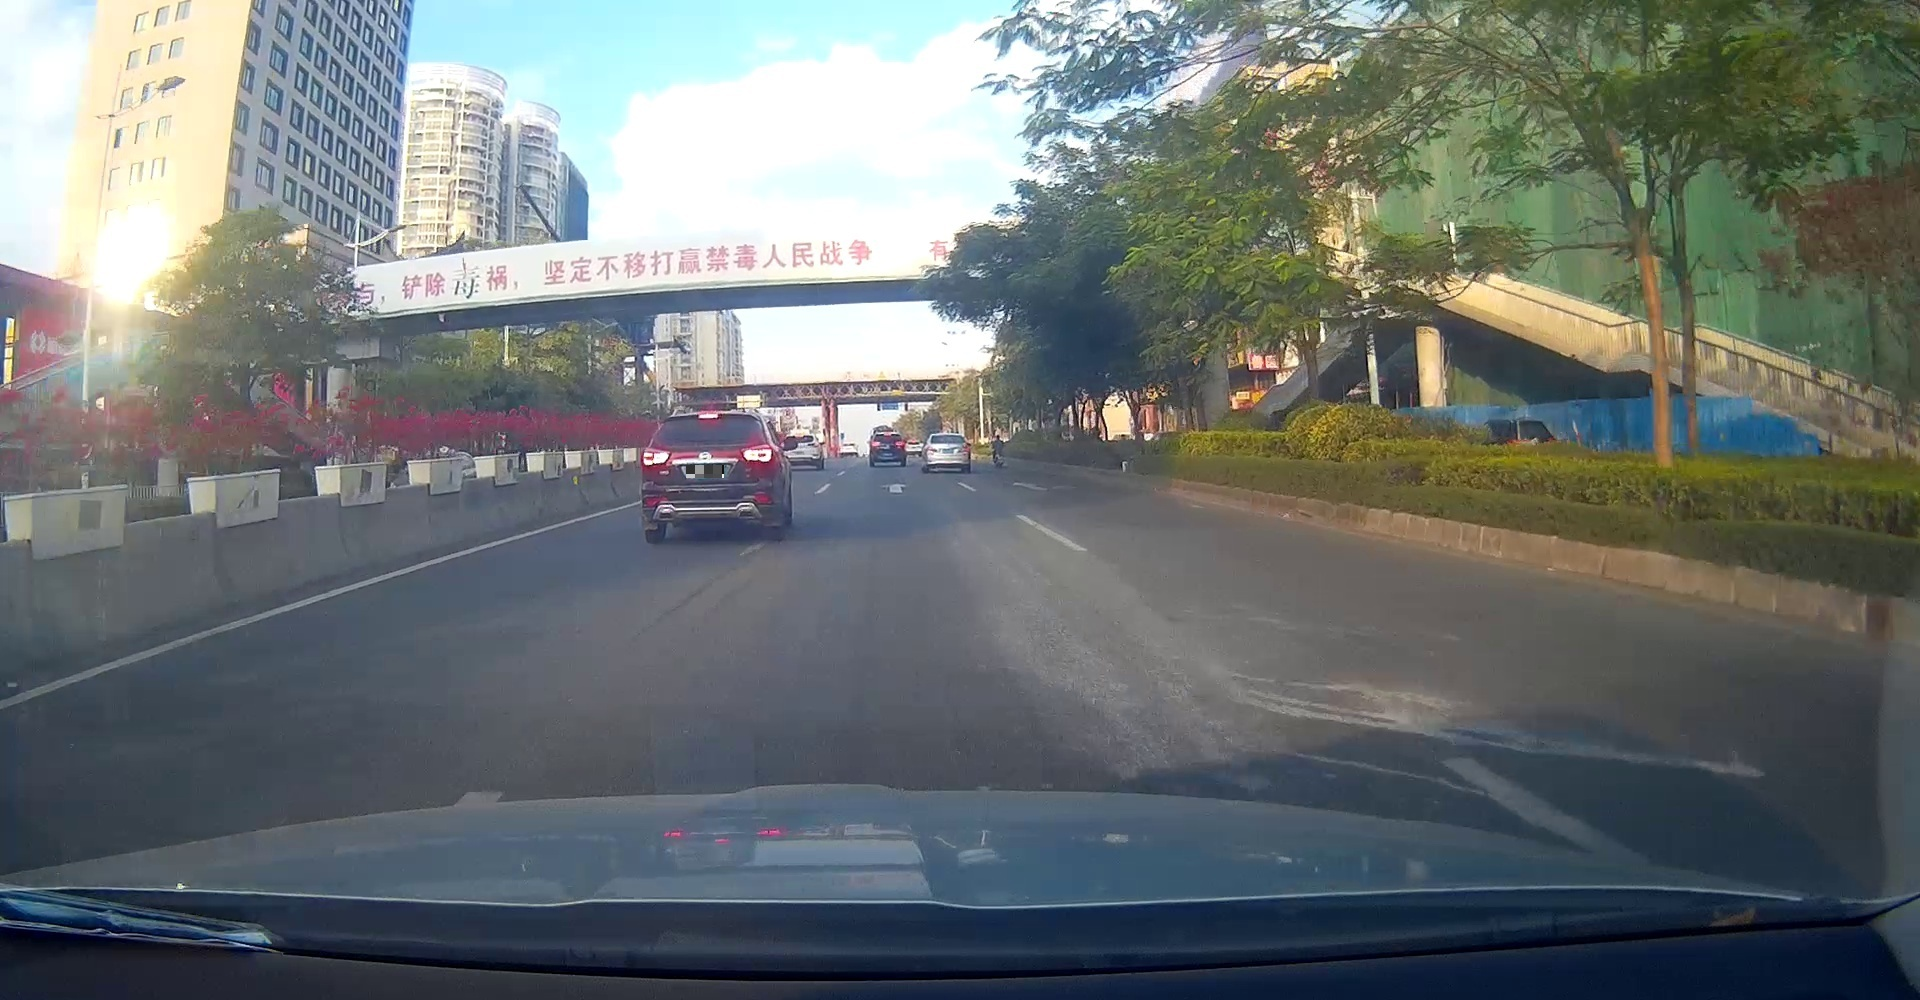L_light: (643, 448, 670, 467)
R_light: (742, 445, 773, 463)
T_light: (698, 412, 717, 418)
day-brake: (643, 411, 780, 543)
plate_1: (686, 464, 724, 478)
